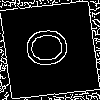O: (24, 25, 79, 69)
